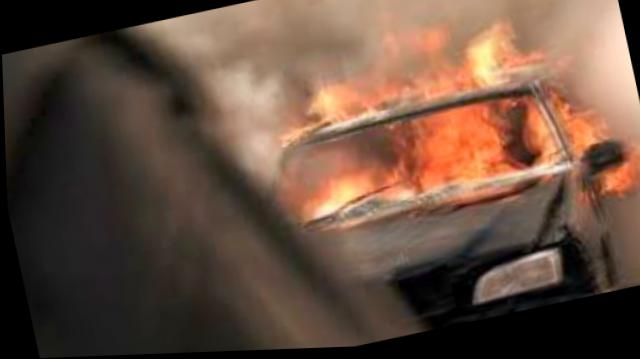fire: (257, 7, 609, 241)
